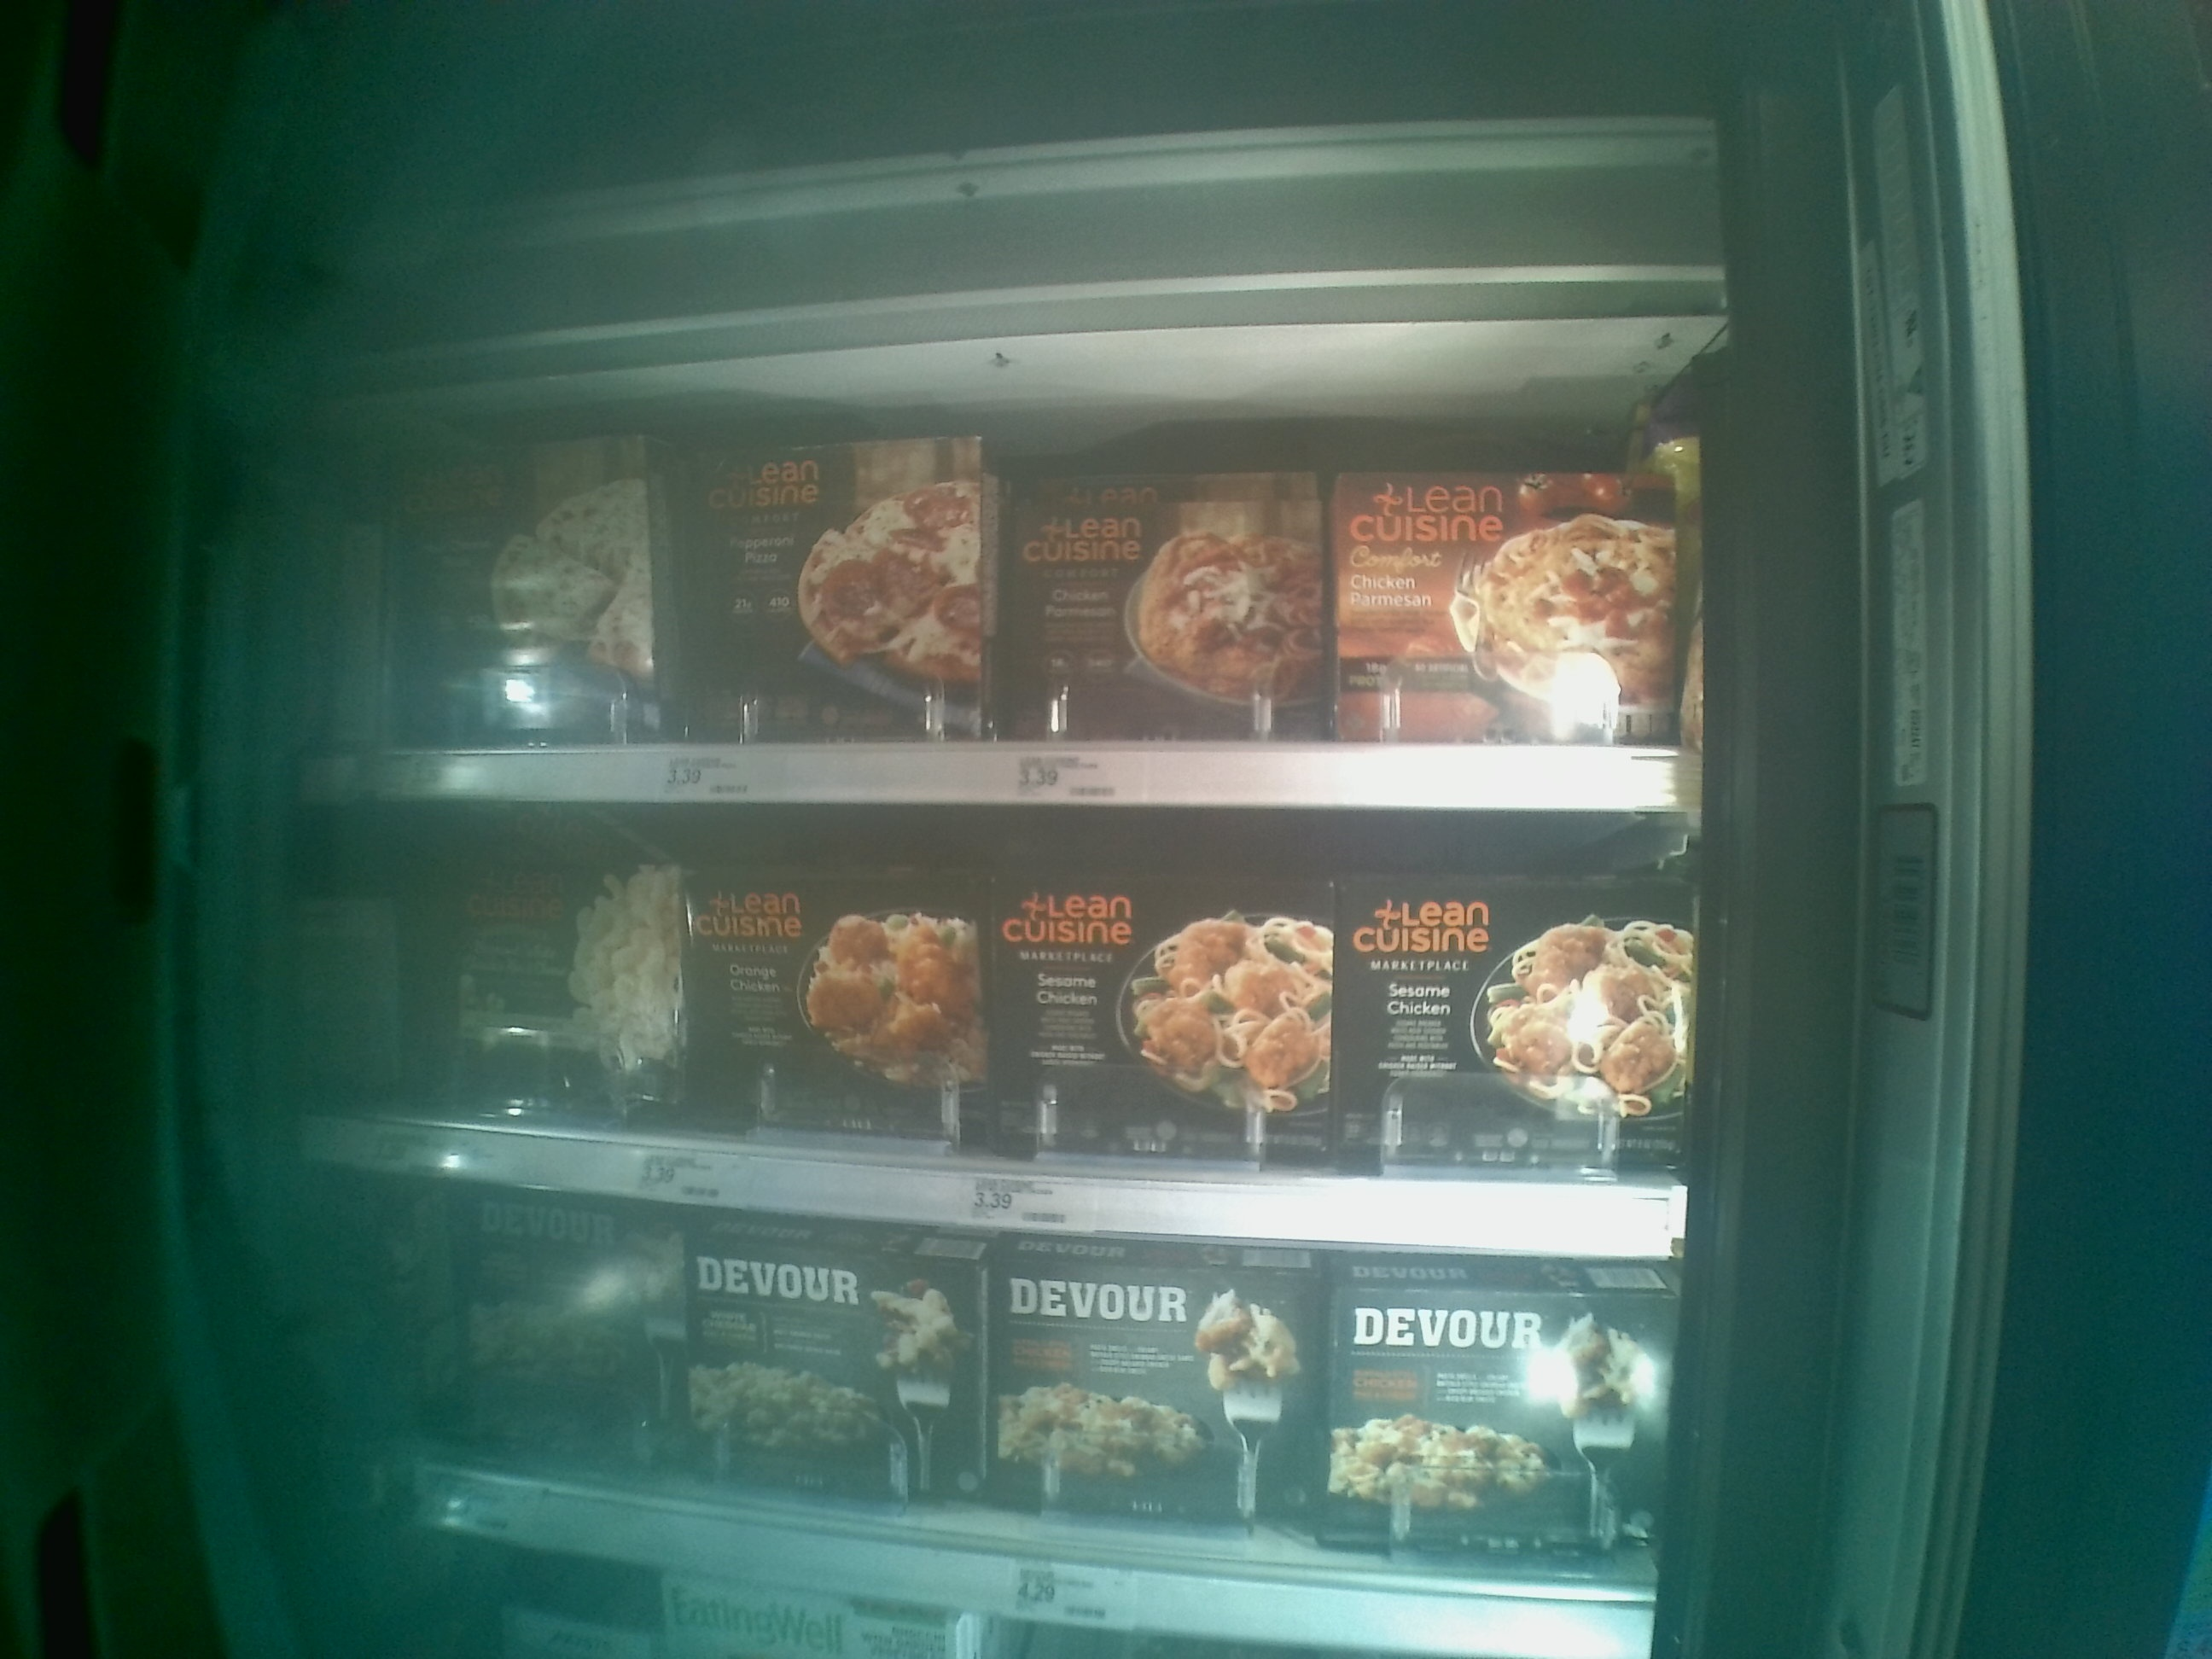shelf: (326, 793, 1689, 1260), (314, 350, 1700, 803)
